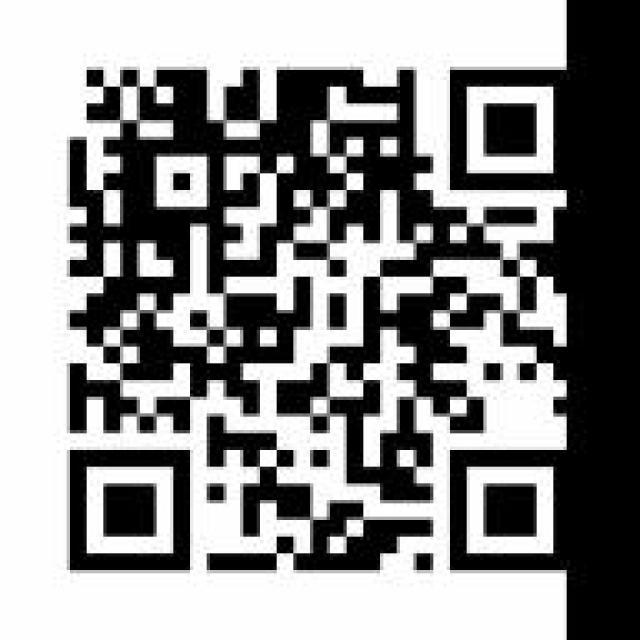qr_code: (68, 70, 569, 572)
